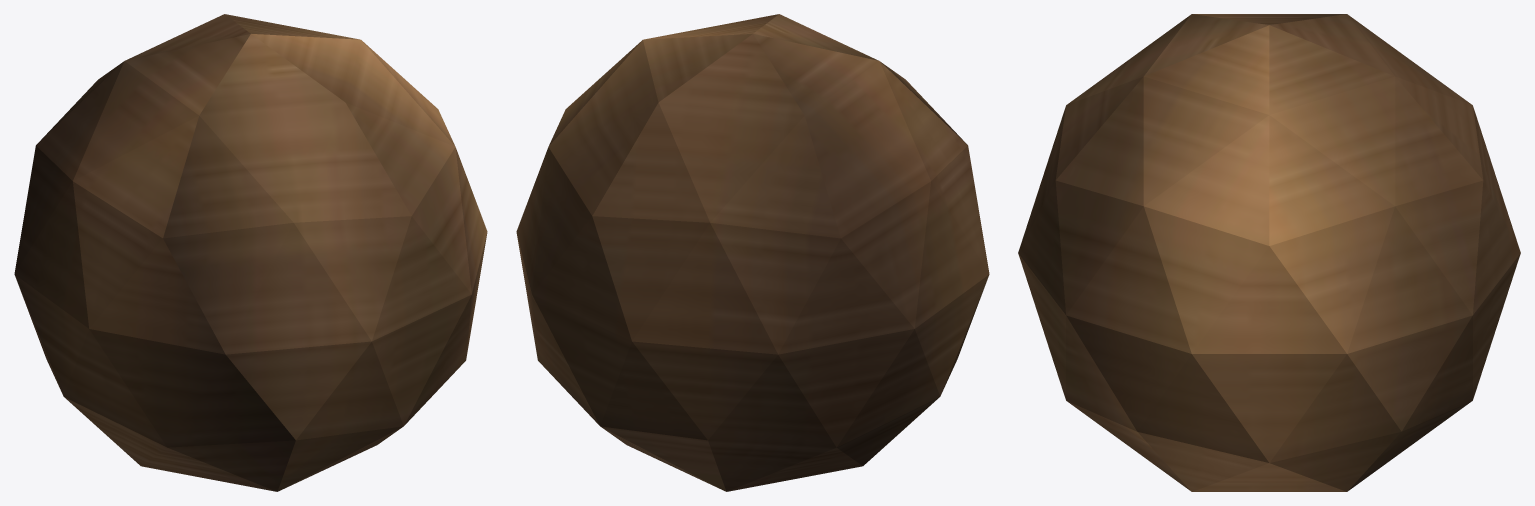
File: EnemyBullet.obj
3 views of the same model, side by side, from view 1: azimuth 30°, elevation 25°; view 2: azimuth 150°, elevation 25°; view 3: azimuth 270°, elevation 25° (orthographic). The views are drawn at different scales.
Parts seen in each view (by area): view 1: ICO球; view 2: ICO球; view 3: ICO球.
Boxes of the visible parts, box(x1,y1,x2,y2) form: ICO球: box(14, 14, 487, 491); ICO球: box(516, 14, 989, 491); ICO球: box(1018, 14, 1520, 491).
Bounding box in the file's own units: 1.9 × 2 × 2.
1 material, 1 textured.
